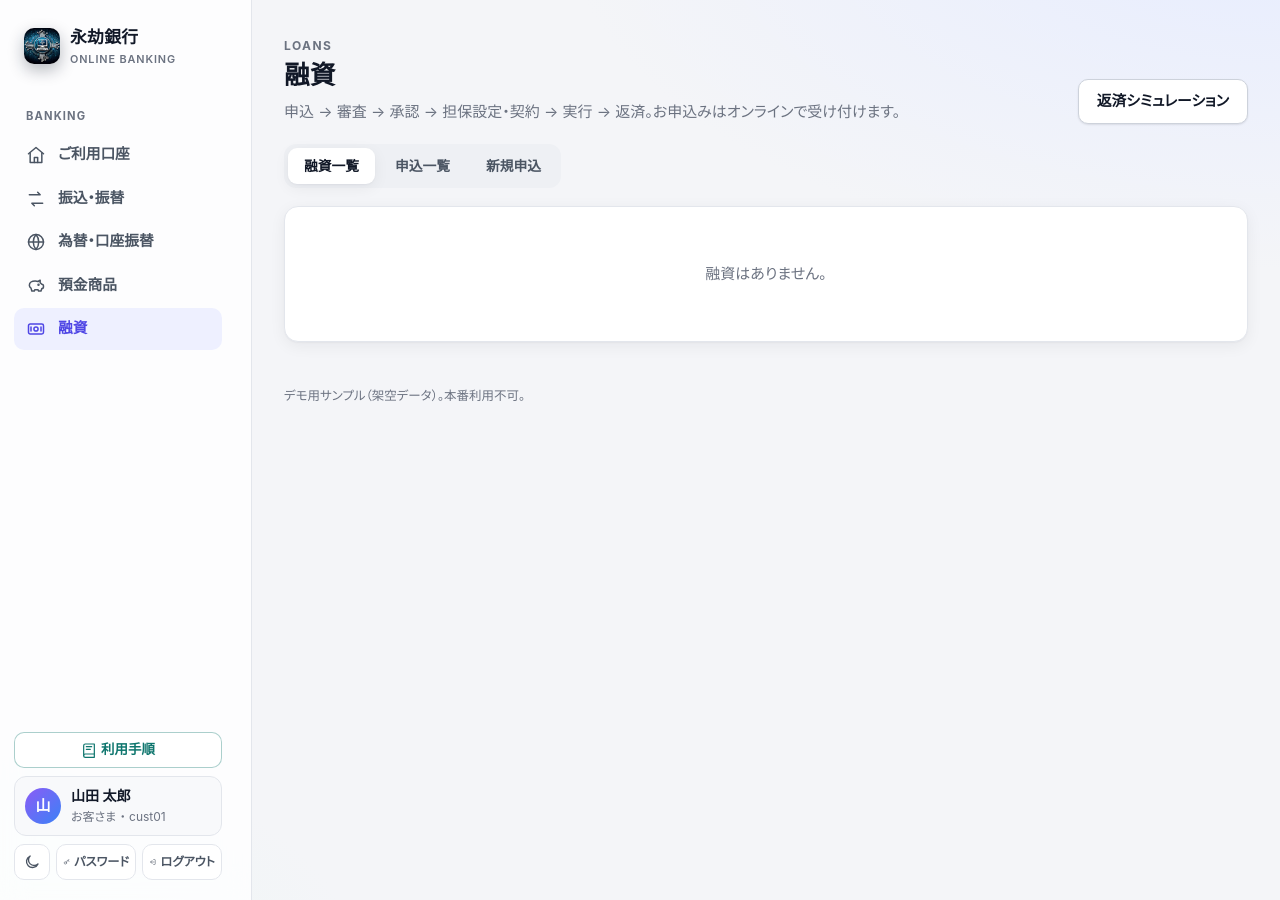
Test: LoansPage › 申込エラーを表示する
Click the tab "新規申込" at [514, 166], box [470,148,557,184]
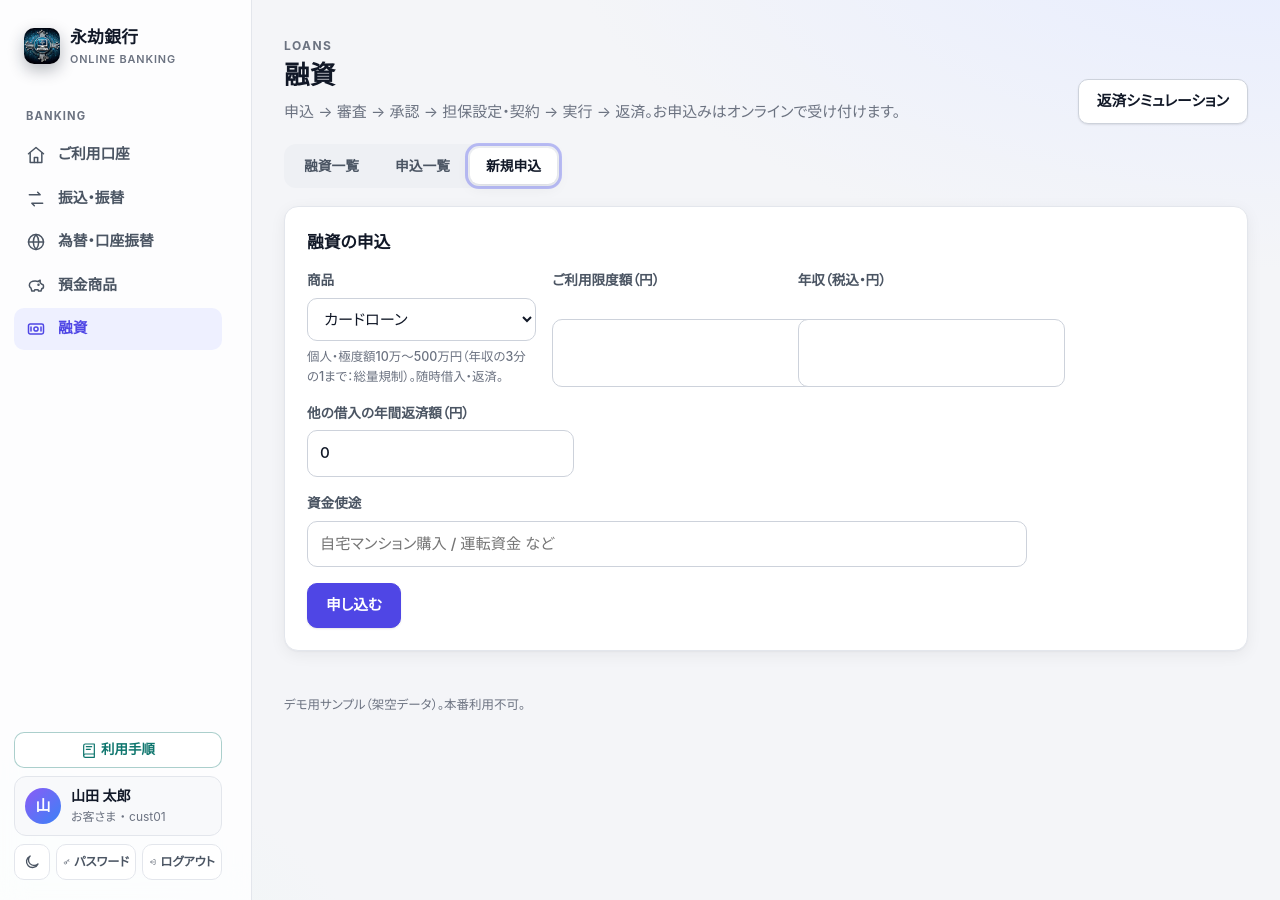
Type "5000000" into the field labelled "ご利用限度額（円）" at [686, 353], box [552,319,819,387]
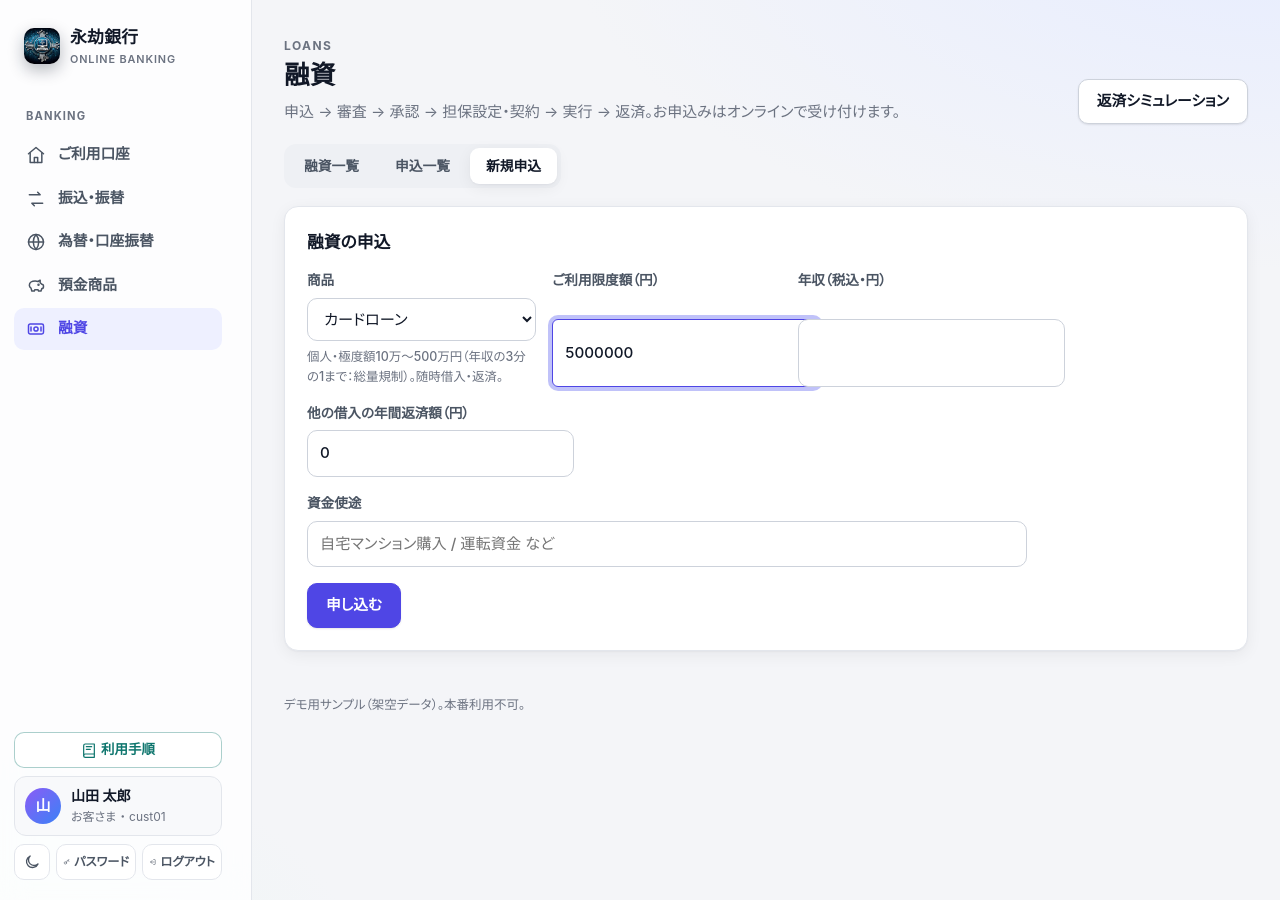
Type "3000000" into the field labelled "年収（税込・円）" at [931, 353], box [798,319,1065,387]
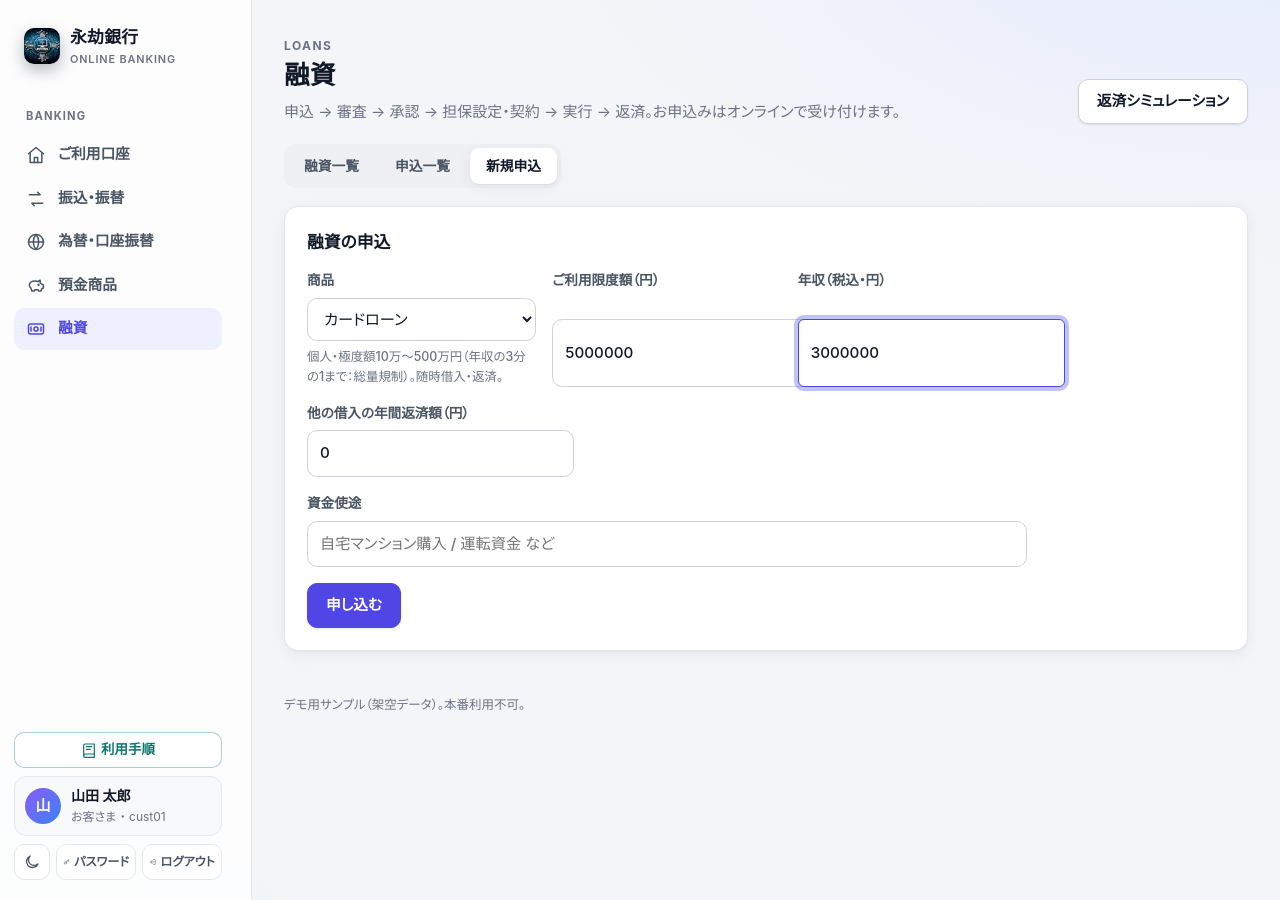
Click the button "申し込む" at [354, 606], box [307,583,401,628]
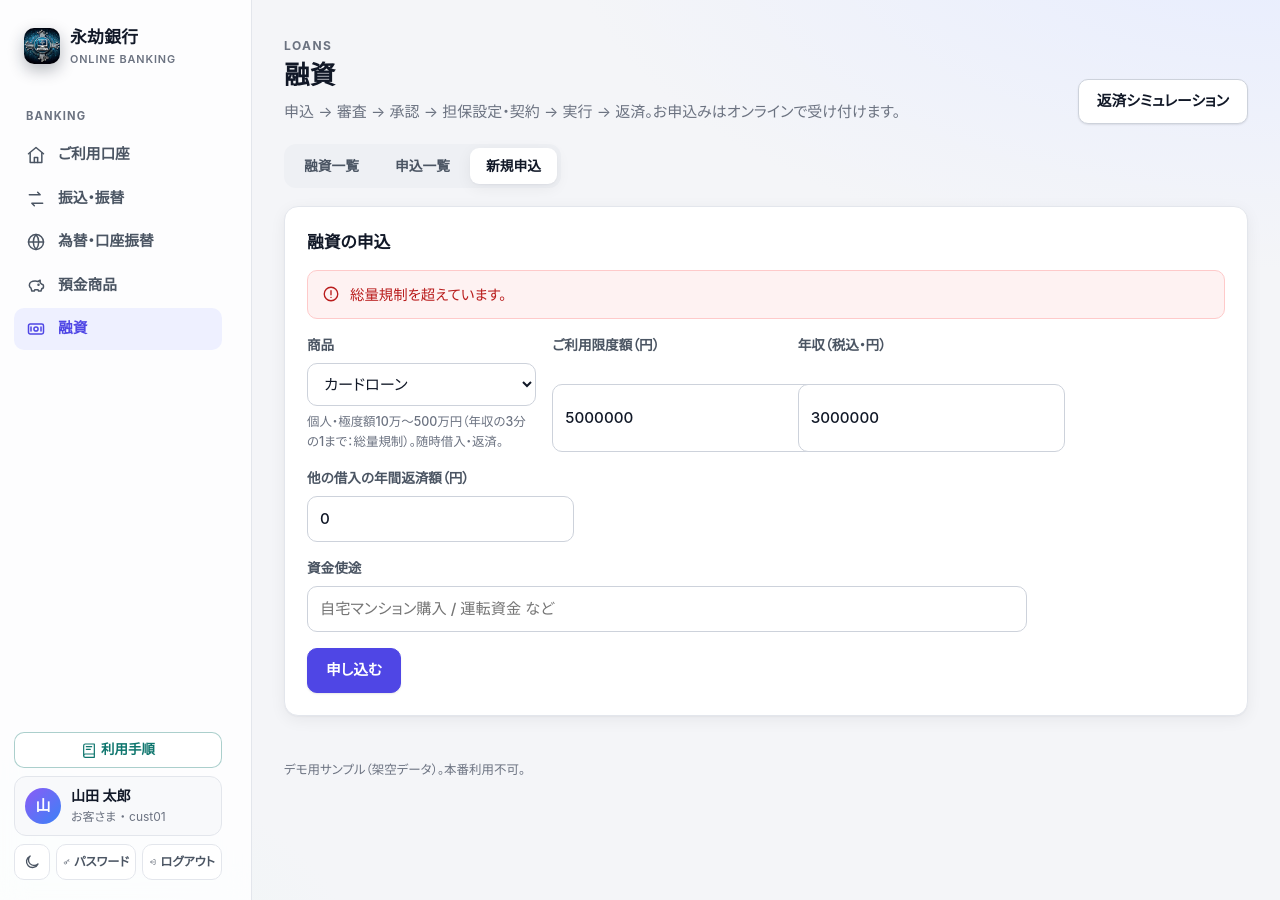
Check: the message reads "総量規制を超えています。", box [350,286,506,303]
